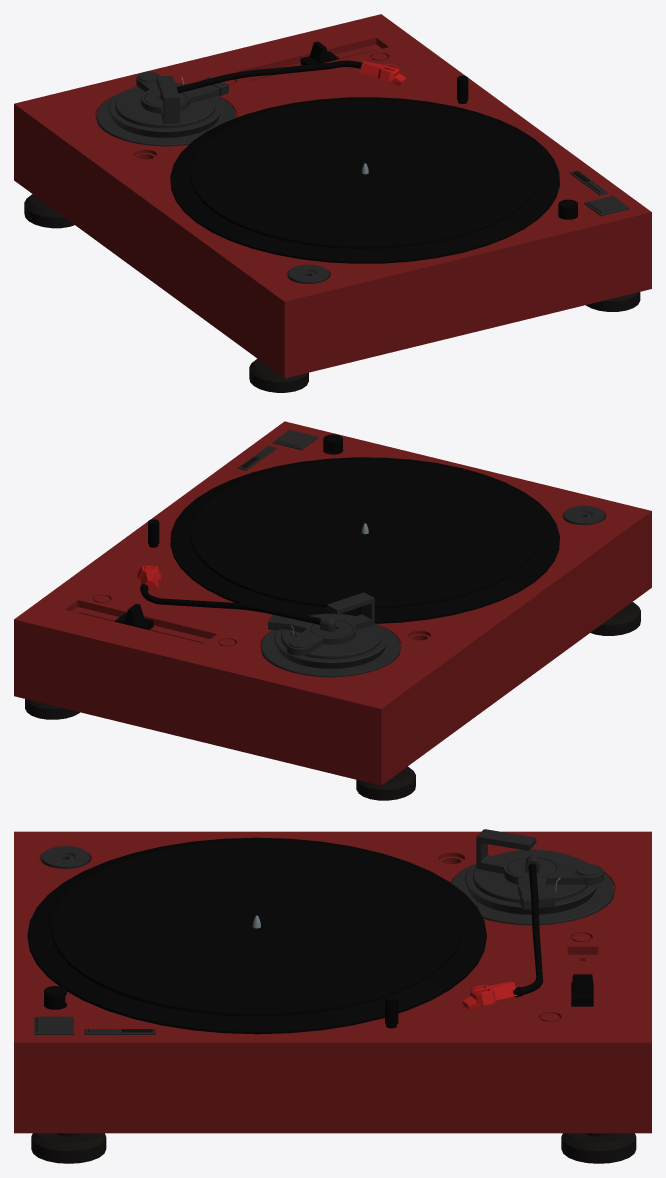
The model's file is vinyl_player.glb.
The picture shows the model from 3 angles, top to bottom: view 1: azimuth 30°, elevation 25°; view 2: azimuth 150°, elevation 25°; view 3: azimuth 270°, elevation 25°; orthographic projection. The views are drawn at different scales.
Parts seen in each view (by area): view 1: pCube17, pCylinder2, pCylinder21, pCylinder25, pCylinder16, pCylinder23, pCylinder33, pCylinder34, pCylinder30, pCylinder13, pCylinder31, pCube10; view 2: pCube17, pCylinder2, pCylinder21, pCylinder25, pCylinder16, pCylinder23, pCylinder34, pCylinder33, pCylinder32, pCylinder13, pCube10; view 3: pCube17, pCylinder2, pCylinder21, pCylinder25, pCylinder16, pCylinder31, pCylinder32, pCylinder23, pCylinder13, pCylinder30, pCube10, pCube6 (+2 smaller).
Part boxes in pixels (<box>): pCube17: <box>14,14,651,378</box>; pCylinder2: <box>170,97,559,263</box>; pCylinder21: <box>108,83,222,137</box>; pCylinder25: <box>139,75,228,124</box>; pCylinder16: <box>96,94,236,146</box>; pCylinder23: <box>176,60,362,92</box>; pCylinder33: <box>249,359,308,392</box>; pCylinder34: <box>24,194,74,228</box>; pCylinder30: <box>359,61,406,86</box>; pCylinder13: <box>288,264,329,283</box>; pCylinder31: <box>586,292,640,311</box>; pCube10: <box>584,196,629,216</box>; pCube17: <box>14,421,651,785</box>; pCylinder2: <box>170,457,559,623</box>; pCylinder21: <box>274,613,388,668</box>; pCylinder25: <box>268,592,374,651</box>; pCylinder16: <box>261,625,400,677</box>; pCylinder23: <box>140,584,320,624</box>; pCylinder34: <box>356,766,415,800</box>; pCylinder33: <box>590,602,640,635</box>; pCylinder32: <box>25,699,79,719</box>; pCylinder13: <box>563,505,604,525</box>; pCube10: <box>272,430,318,450</box>; pCube17: <box>14,831,651,1133</box>; pCylinder2: <box>27,837,486,1034</box>; pCylinder21: <box>465,849,598,914</box>; pCylinder25: <box>476,829,585,909</box>; pCylinder16: <box>451,863,614,925</box>; pCylinder31: <box>31,1133,106,1163</box>; pCylinder32: <box>561,1133,636,1163</box>; pCylinder23: <box>513,863,542,997</box>; pCylinder13: <box>41,846,89,868</box>; pCylinder30: <box>462,981,517,1010</box>; pCube10: <box>34,1016,73,1034</box>; pCube6: <box>571,974,593,1006</box>.
Size of the model in its own units: 1.59 by 0.5579 by 1.96.
